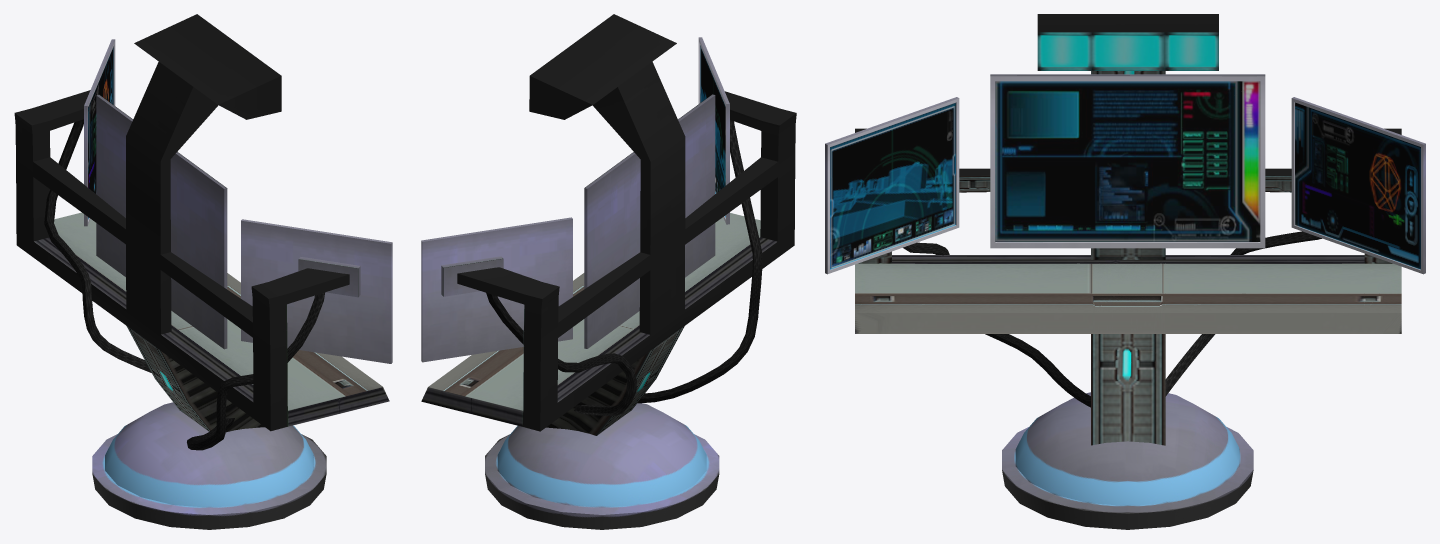
Rendered from led.FBX.
3 renders of one model, left to right at view 1: azimuth 30°, elevation 25°; view 2: azimuth 150°, elevation 25°; view 3: azimuth 270°, elevation 25°, orthographic. The views are drawn at different scales.
Visible parts, largest first — view 1: led; view 2: led; view 3: led.
Part boxes in pixels (x1,y1,x2,y2): led: (14,14,392,529); led: (421,14,796,529); led: (825,14,1425,529).
Bounding box in the file's own units: 114 × 226 × 267.
1 material, 1 textured.
